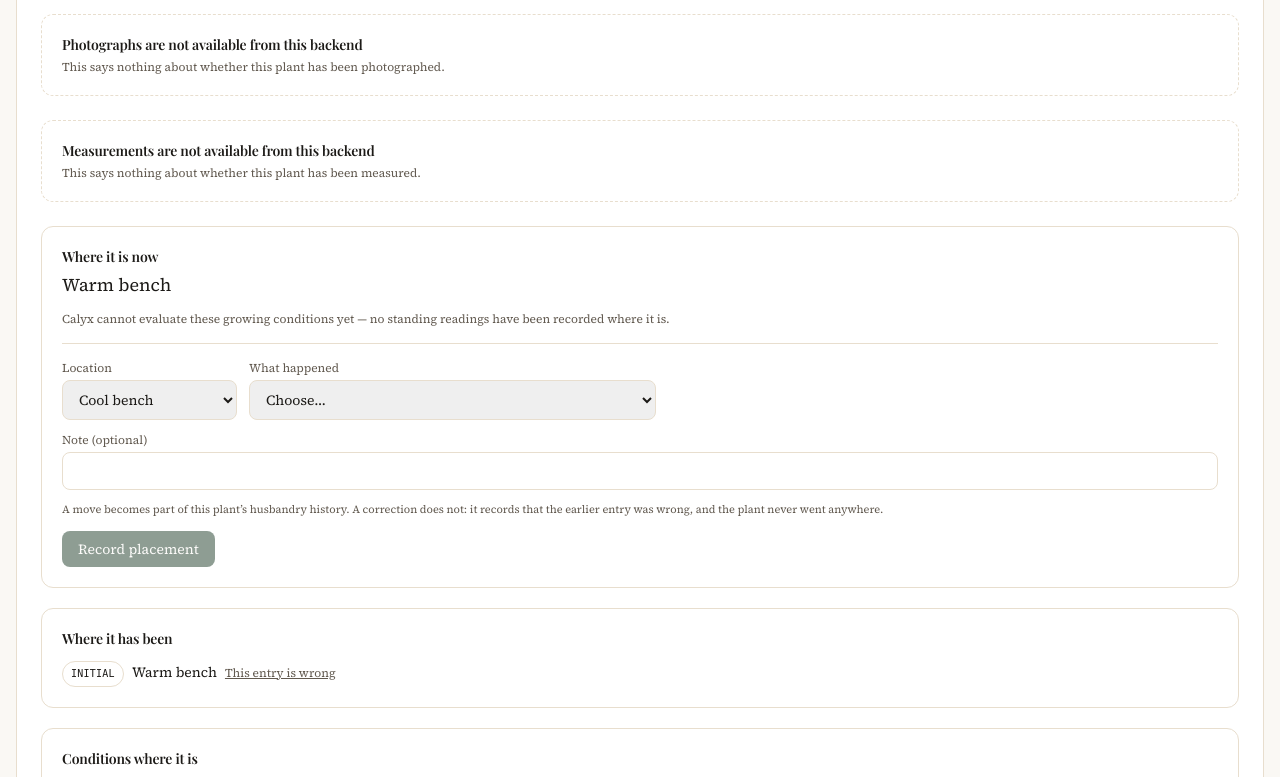
Test: MyConservatory recording a placement › reports a rejected placement instead of pretending it saved
The width and height of the screenshot is (1280, 777).
(page scrolled)
Select "Cool bench" in the dropdown labelled "Location". click: (150, 400)
box: [62,380,237,420]
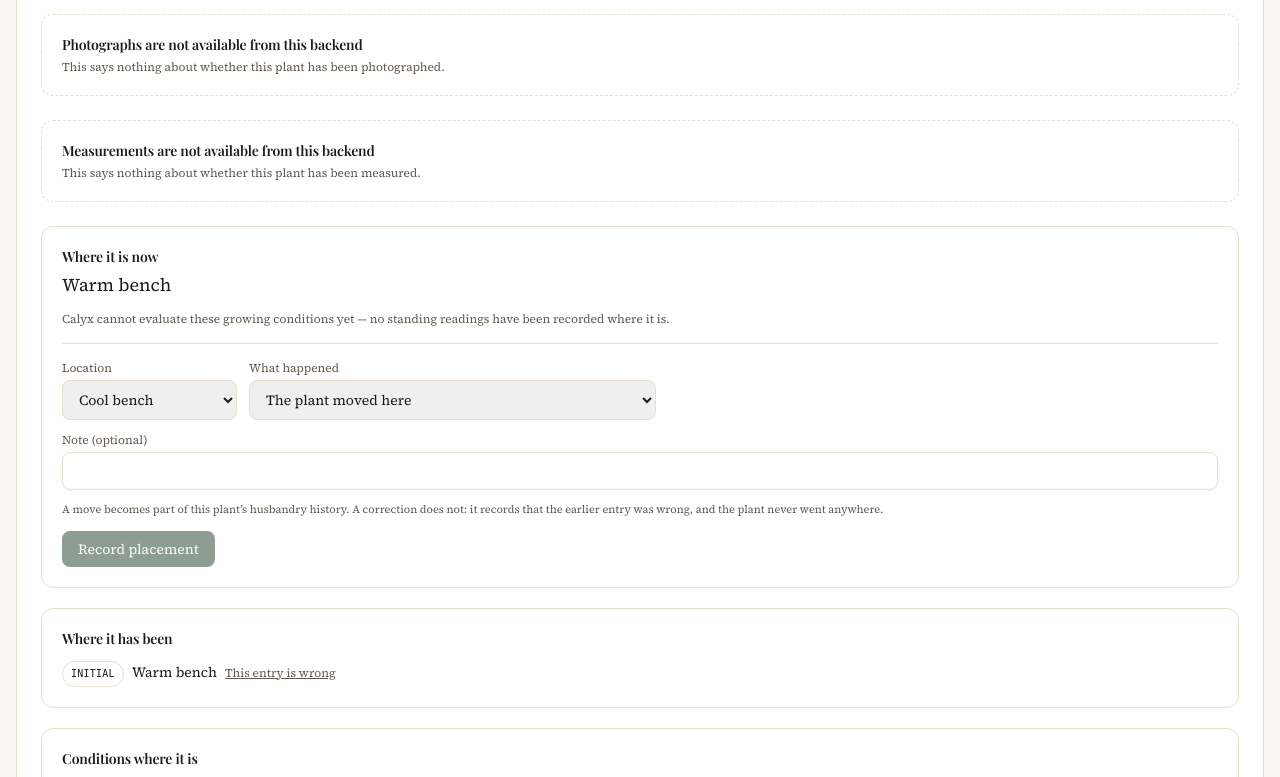
Select "The plant moved here" in the dropdown with test id "placement-reason-select". click: (452, 400)
box: [249,380,656,420]
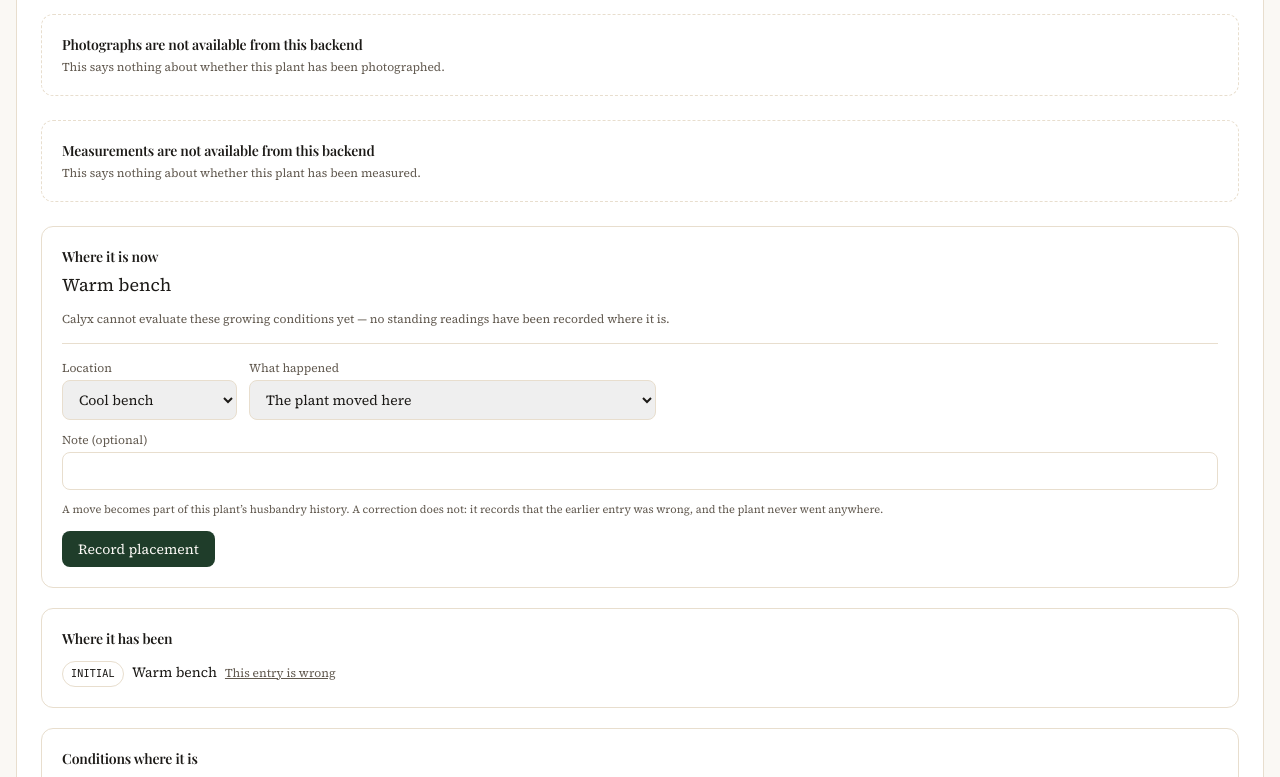
Submit the form with test id "record-placement", box [62,343,1218,566]
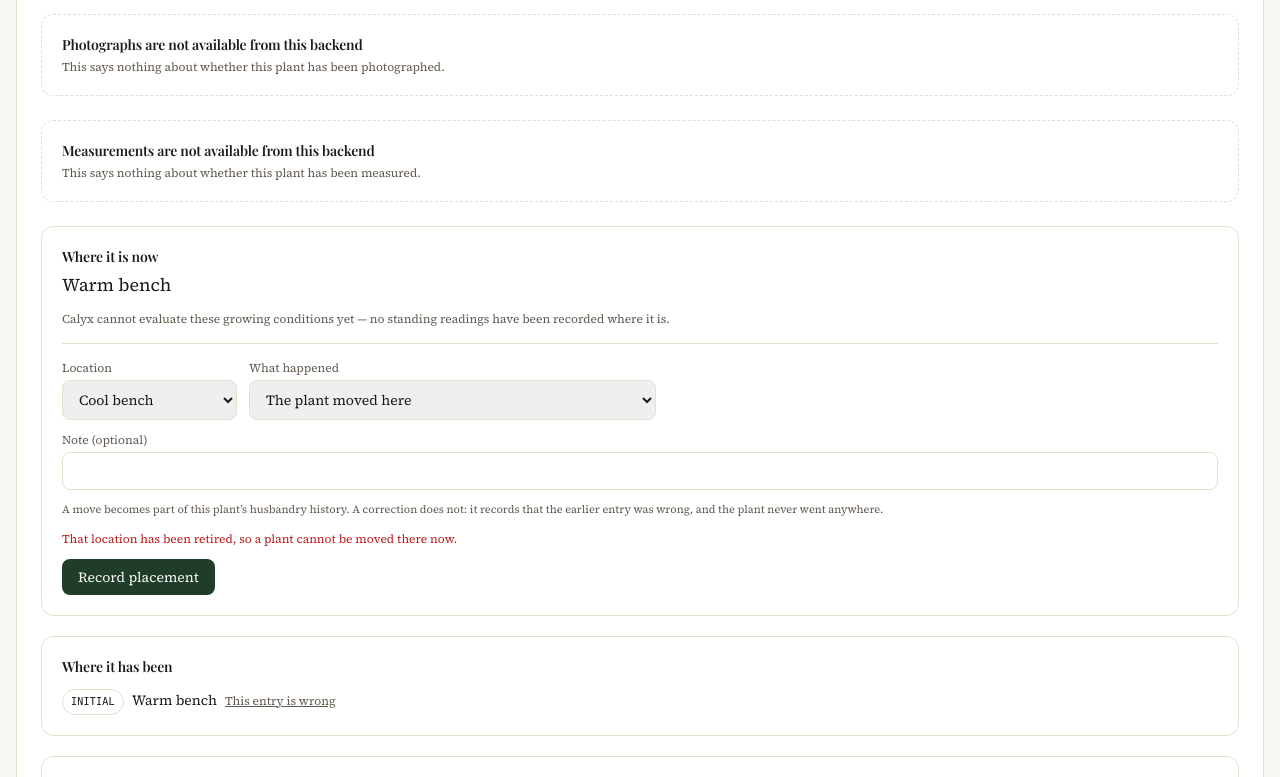
Expected: the number of list items is 1, [62,688,336,714]
Expected: the message "That location has been retired, so a plant cannot be moved there now." is shown, [62,530,457,546]
